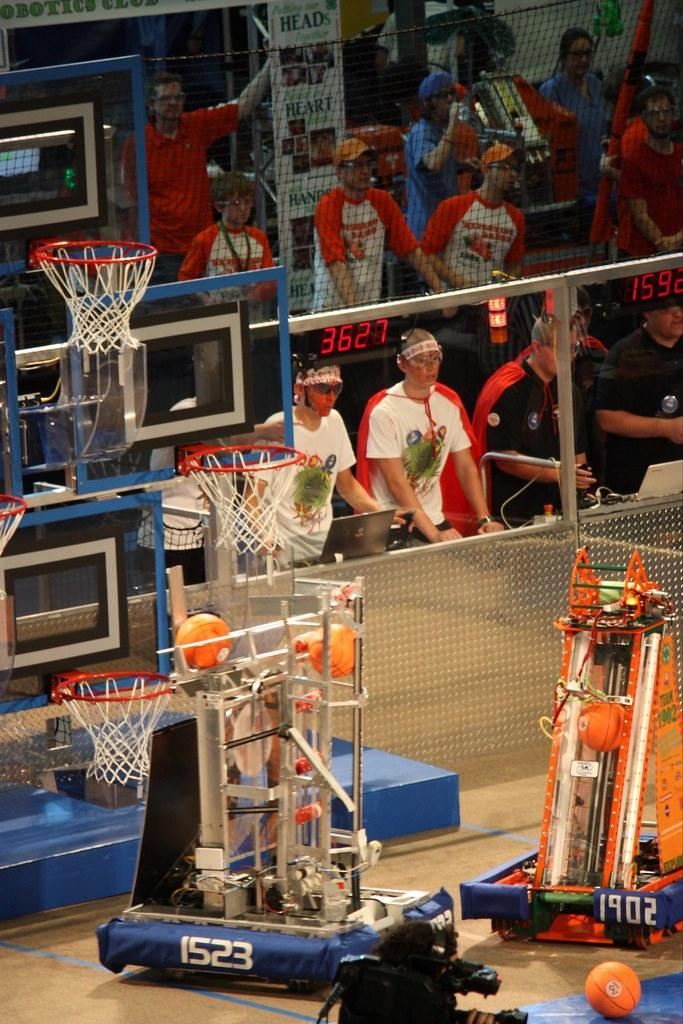robot: (80, 527, 460, 1003), (459, 513, 683, 959)
